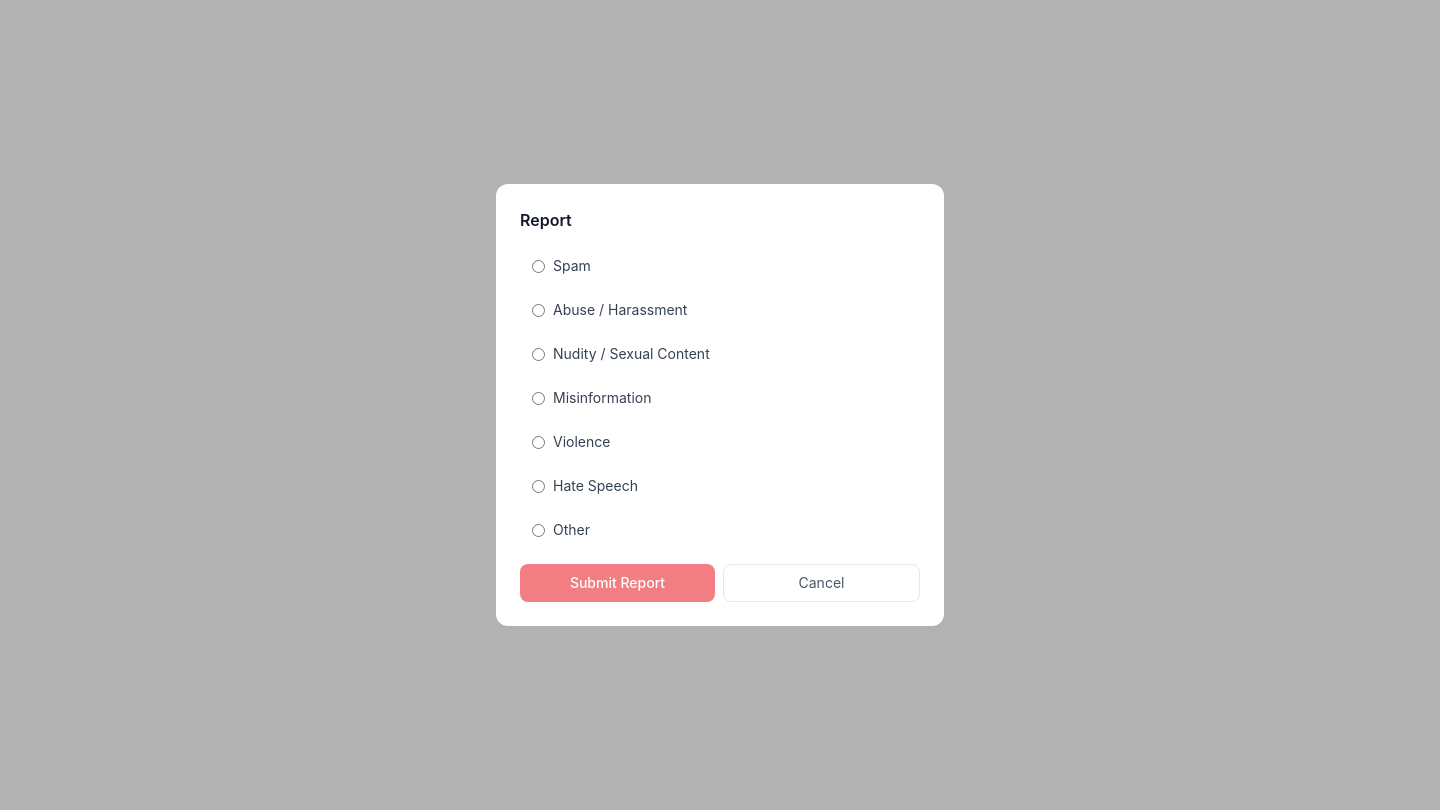
Scenario: ReportModal › submit button enabled after selecting reason
Click the text "Spam".
click(561, 266)  # box [532, 257, 591, 274]
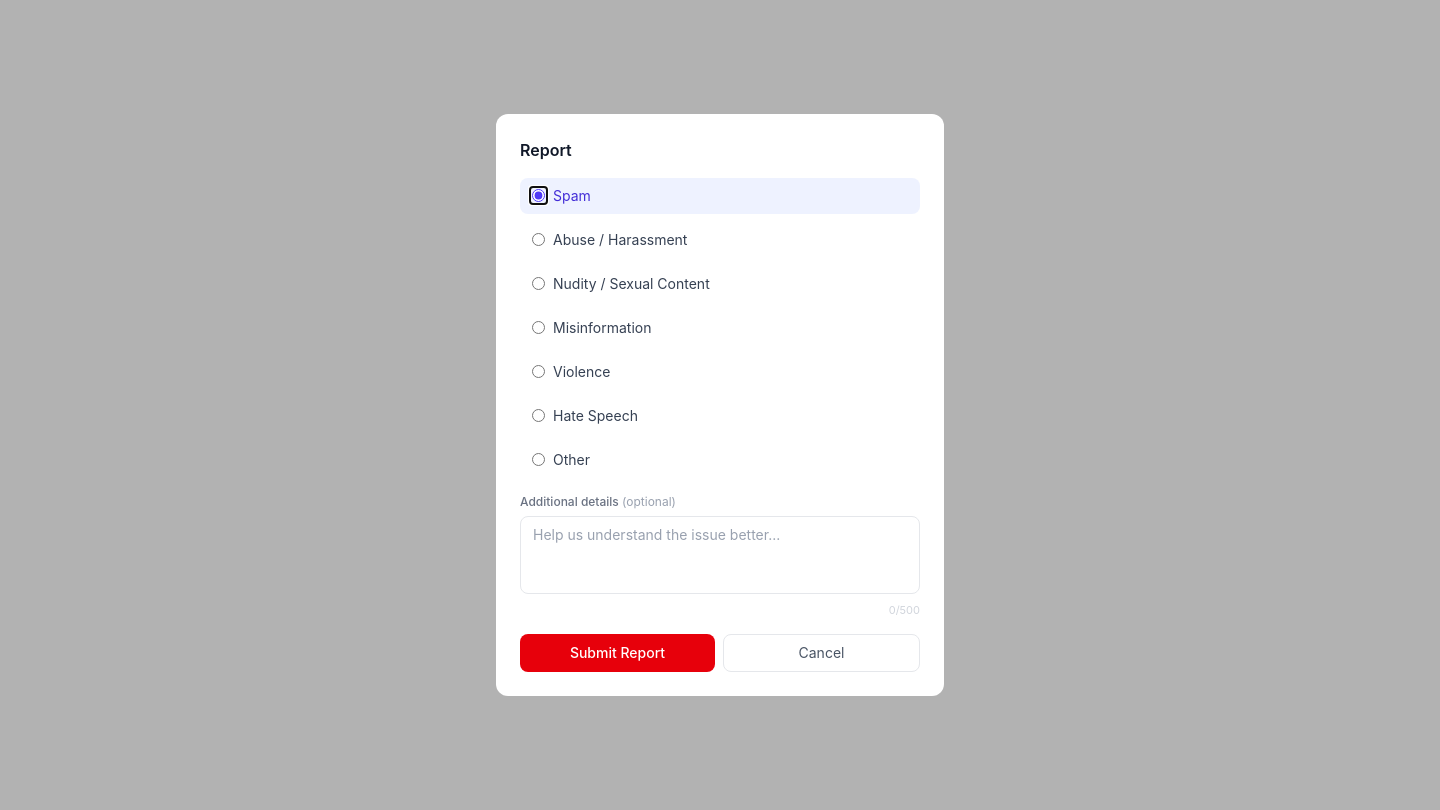
Result: the button "Submit Report" is enabled at [520, 634, 715, 672]
